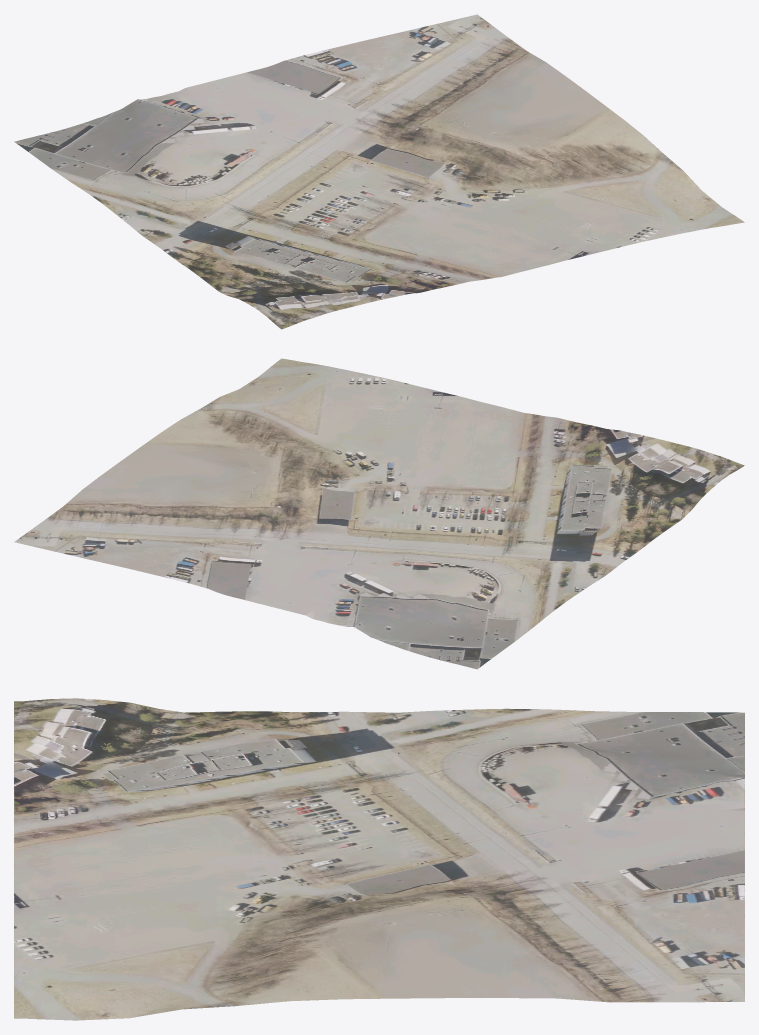
Rendered from CM_Terrain_24492302_6816108.fbx.
3 views of the same model, one above another, from view 1: azimuth 30°, elevation 25°; view 2: azimuth 150°, elevation 25°; view 3: azimuth 270°, elevation 25° (orthographic). The views are drawn at different scales.
Visible parts, largest first — view 1: CM_Terrain_24492302_6816108_LOD0; view 2: CM_Terrain_24492302_6816108_LOD0; view 3: CM_Terrain_24492302_6816108_LOD0.
Part boxes in pixels (<box>): CM_Terrain_24492302_6816108_LOD0: <box>14,14,744,329</box>; CM_Terrain_24492302_6816108_LOD0: <box>14,358,744,669</box>; CM_Terrain_24492302_6816108_LOD0: <box>14,698,744,1020</box>.
Size of what is drawn, in the model's own units: 205 by 7.32 by 205.
